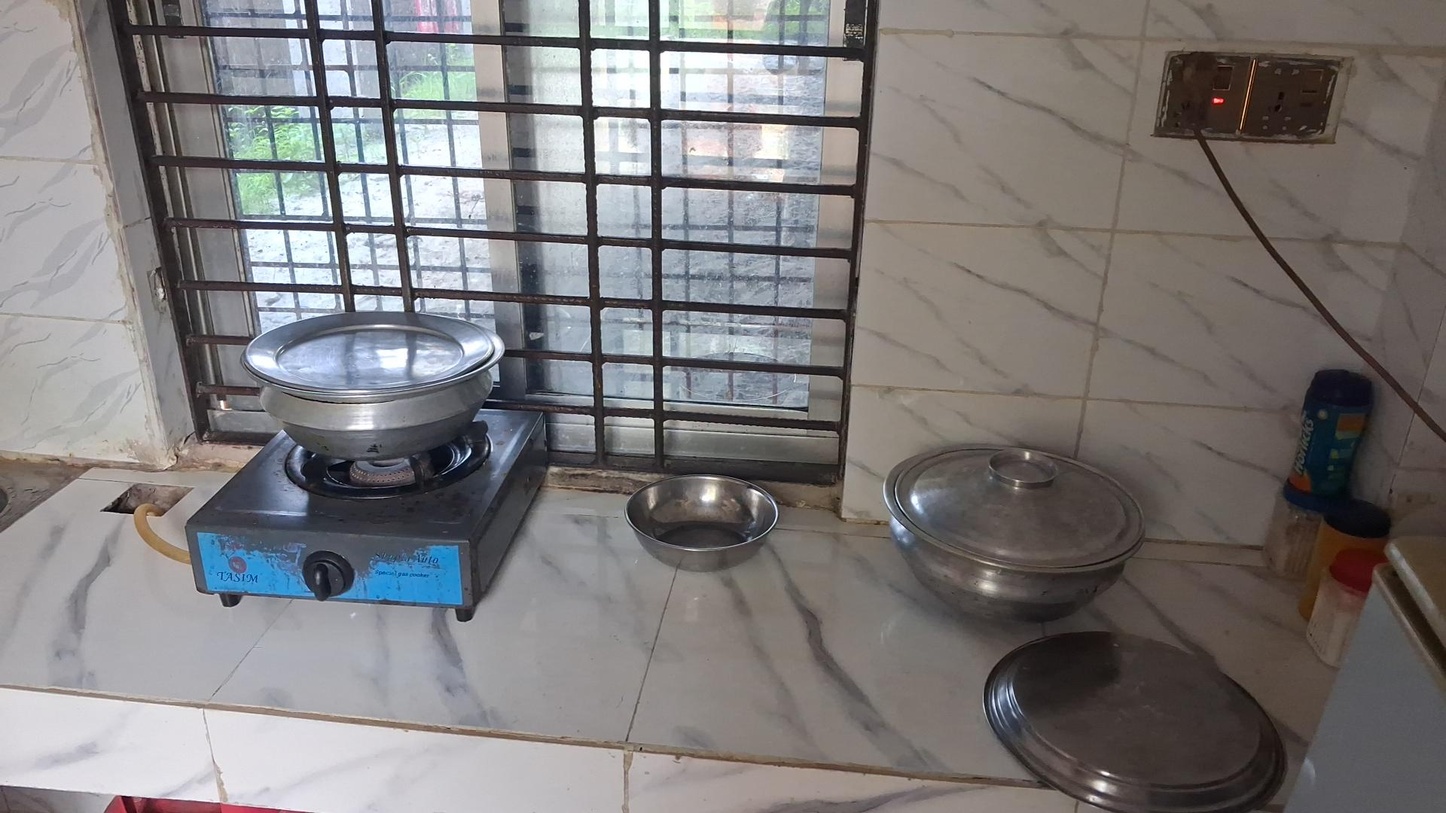Bowl: (625, 474, 779, 572)
Jar: (1298, 366, 1380, 509), (1315, 551, 1385, 659), (1271, 489, 1313, 578)
Plate: (984, 632, 1281, 813)
Pot: (883, 442, 1148, 625), (249, 308, 509, 458)
